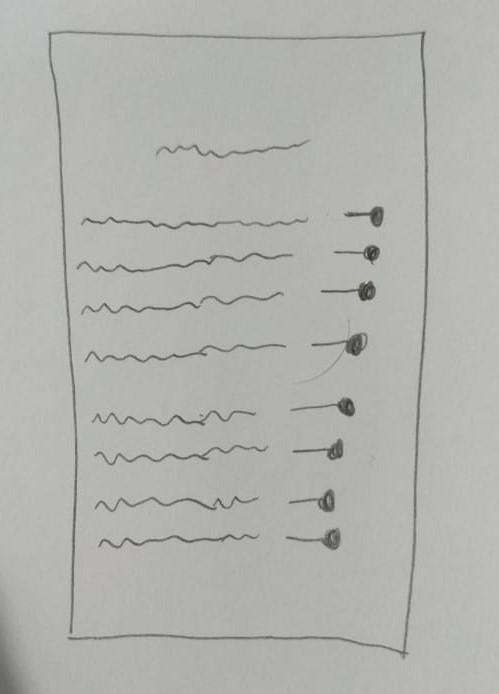Label: (156, 141, 308, 160)
Screen: (48, 30, 429, 657)
Switch: (80, 281, 376, 317), (84, 333, 368, 364), (76, 245, 382, 273), (91, 397, 356, 426), (80, 206, 384, 230), (93, 438, 345, 466), (94, 488, 336, 512), (98, 527, 340, 550)
